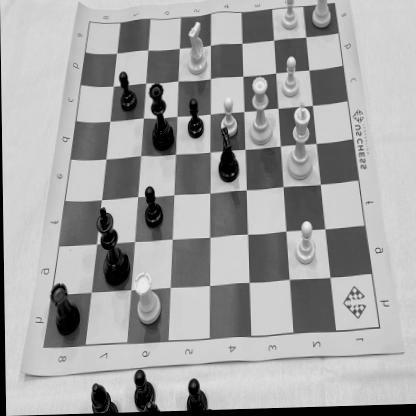black-king: (95, 205, 132, 292)
black-knight: (213, 127, 246, 185)
black-pawn: (117, 66, 140, 116), (142, 186, 165, 234), (184, 98, 206, 144)
black-queen: (148, 80, 177, 158)
black-rook: (48, 279, 82, 342)
white-king: (284, 100, 316, 186)
white-knight: (184, 19, 211, 80)
white-pawn: (218, 92, 242, 144), (293, 220, 318, 268), (280, 53, 303, 102), (279, 0, 301, 35)
white-queen: (249, 74, 273, 149)
white-rook: (131, 268, 162, 328), (309, 0, 334, 32)
